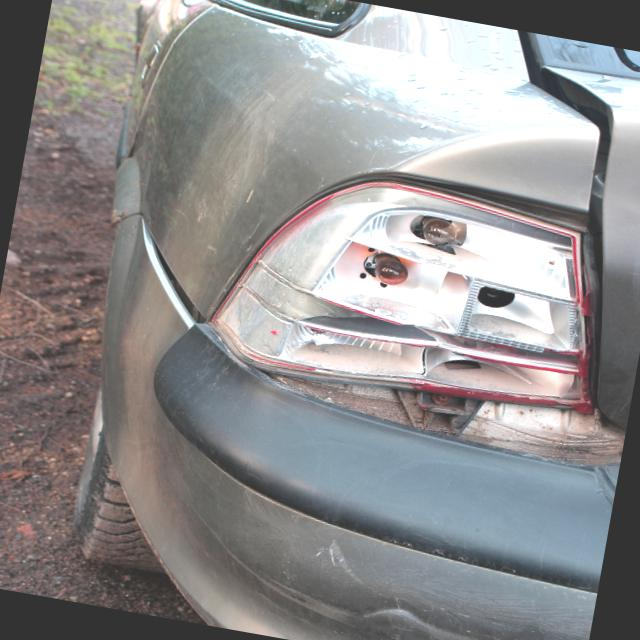Dechirure: (220, 333, 630, 485)
Phare abime: (190, 132, 634, 421)
